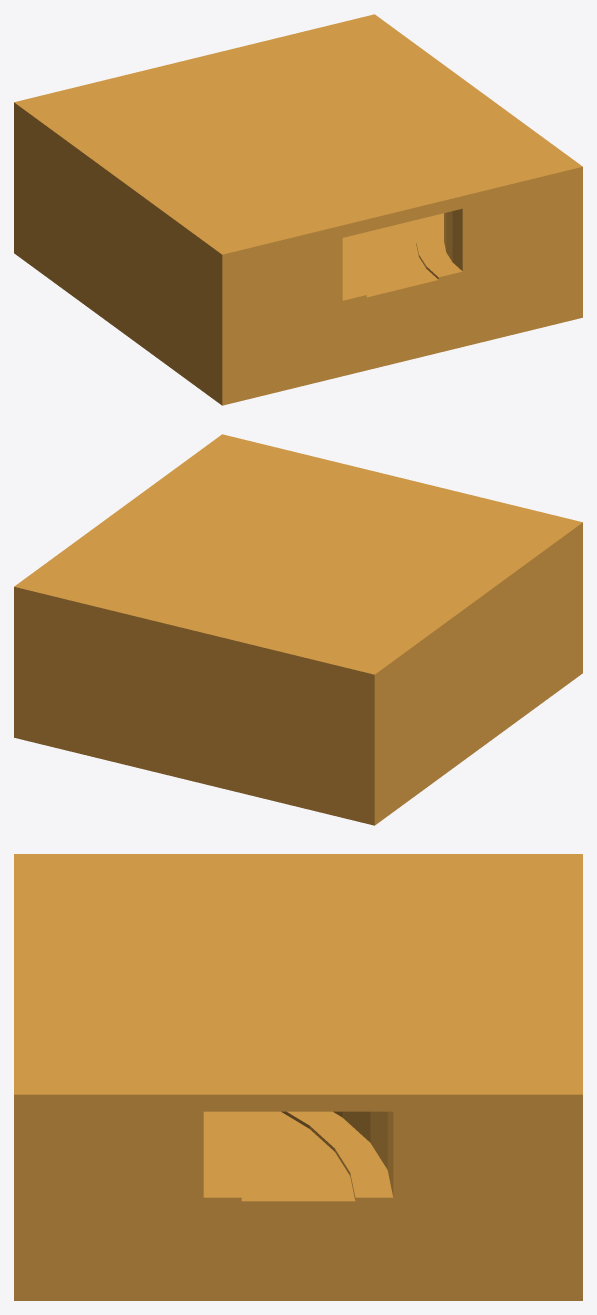
File: tile-road-tunnel-curve.glb
3 views of the same model, one above another, from view 1: azimuth 30°, elevation 25°; view 2: azimuth 150°, elevation 25°; view 3: azimuth 270°, elevation 25° (orthographic). The views are drawn at different scales.
Visible parts, largest first — view 1: tile-road-tunnel-curve; view 2: tile-road-tunnel-curve; view 3: tile-road-tunnel-curve.
Boxes of the visible parts, box(x1,y1,x2,y2) form: tile-road-tunnel-curve: box(14, 14, 582, 405); tile-road-tunnel-curve: box(14, 434, 582, 825); tile-road-tunnel-curve: box(14, 854, 582, 1300).
Bounding box in the file's own units: 30 × 12 × 30.
